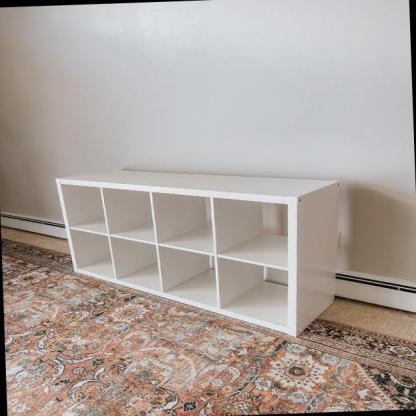Shelf: (48, 156, 369, 351)
